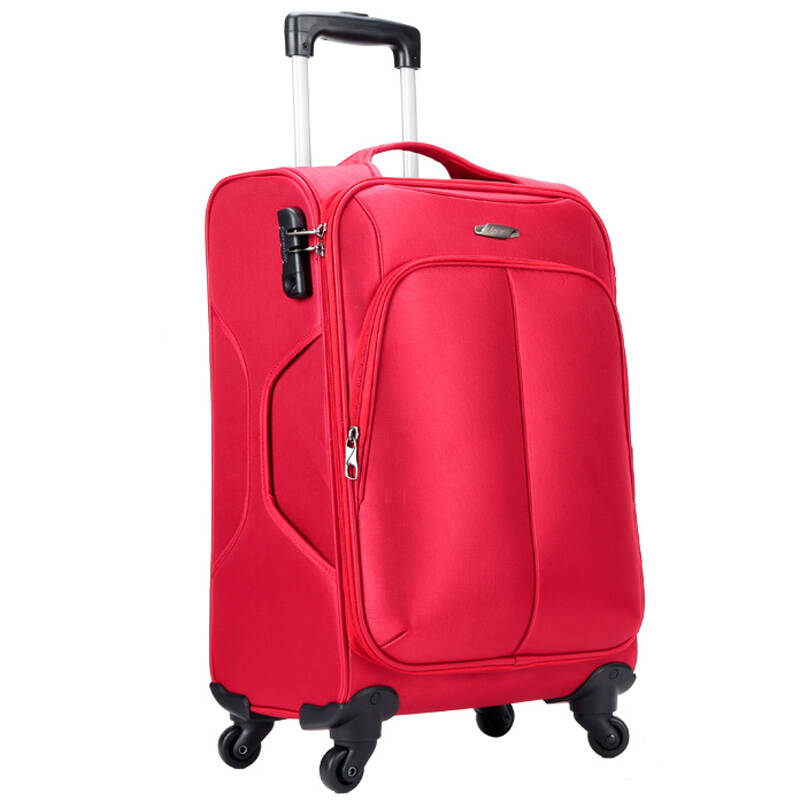luggage: (207, 11, 648, 791)
